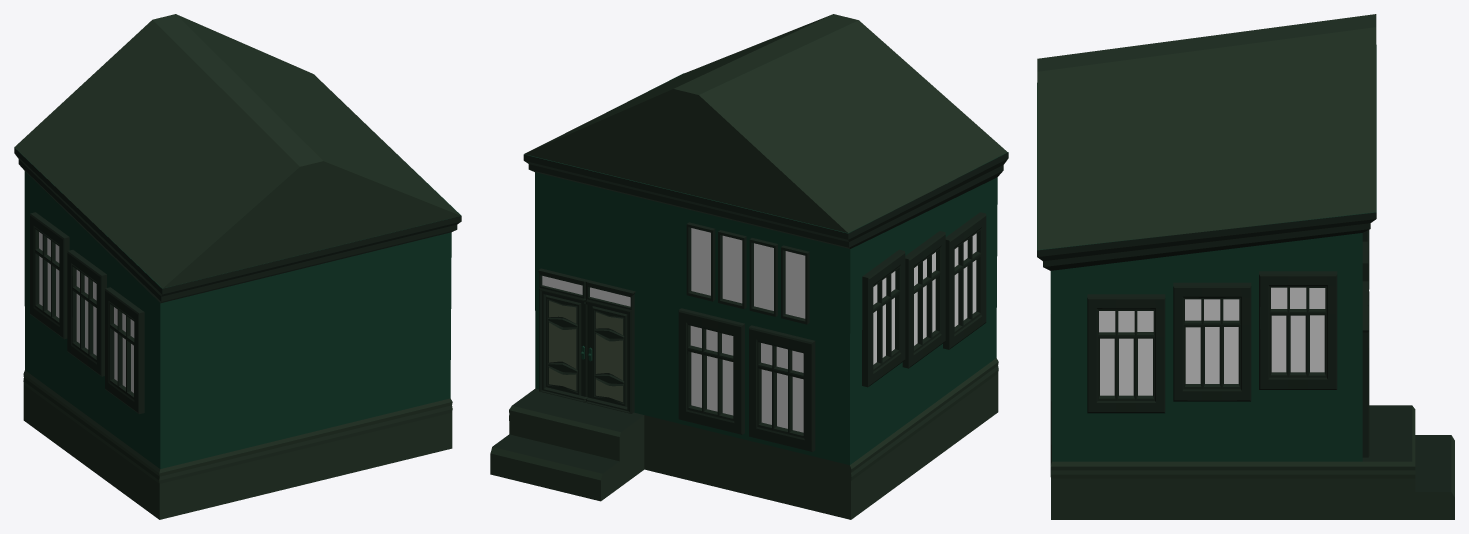
The model's file is AngledbuildingB_model.fbx.
3 views of the same model, side by side, from view 1: azimuth 30°, elevation 25°; view 2: azimuth 150°, elevation 25°; view 3: azimuth 270°, elevation 25° (orthographic). The views are drawn at different scales.
Visible parts, largest first — view 1: AngledbuildingB_model; view 2: AngledbuildingB_model; view 3: AngledbuildingB_model.
Boxes of the visible parts, box(x1,y1,x2,y2) form: AngledbuildingB_model: box(14, 14, 461, 519); AngledbuildingB_model: box(490, 14, 1008, 519); AngledbuildingB_model: box(1037, 14, 1454, 519).
Bounding box in the file's own units: 810 × 842 × 928.
